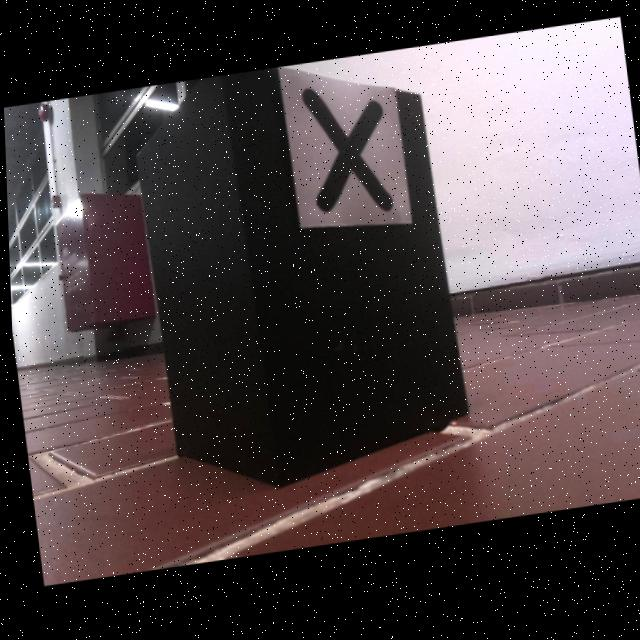X: (300, 91, 392, 216)
